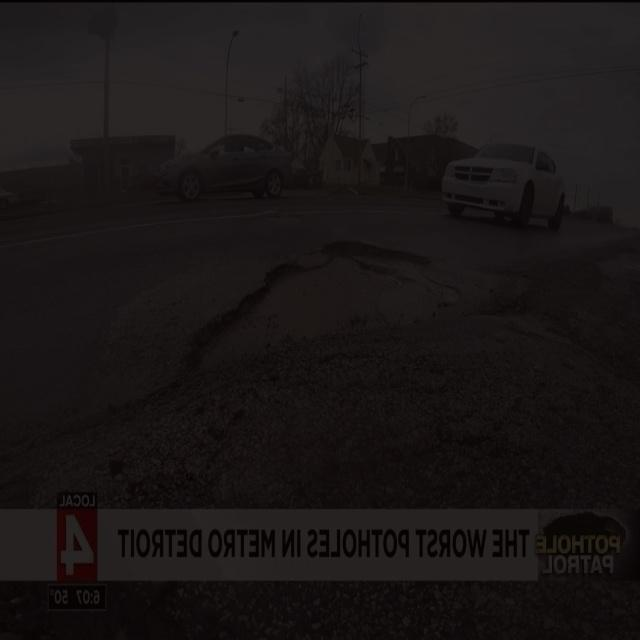Pothole: (162, 236, 466, 378)
